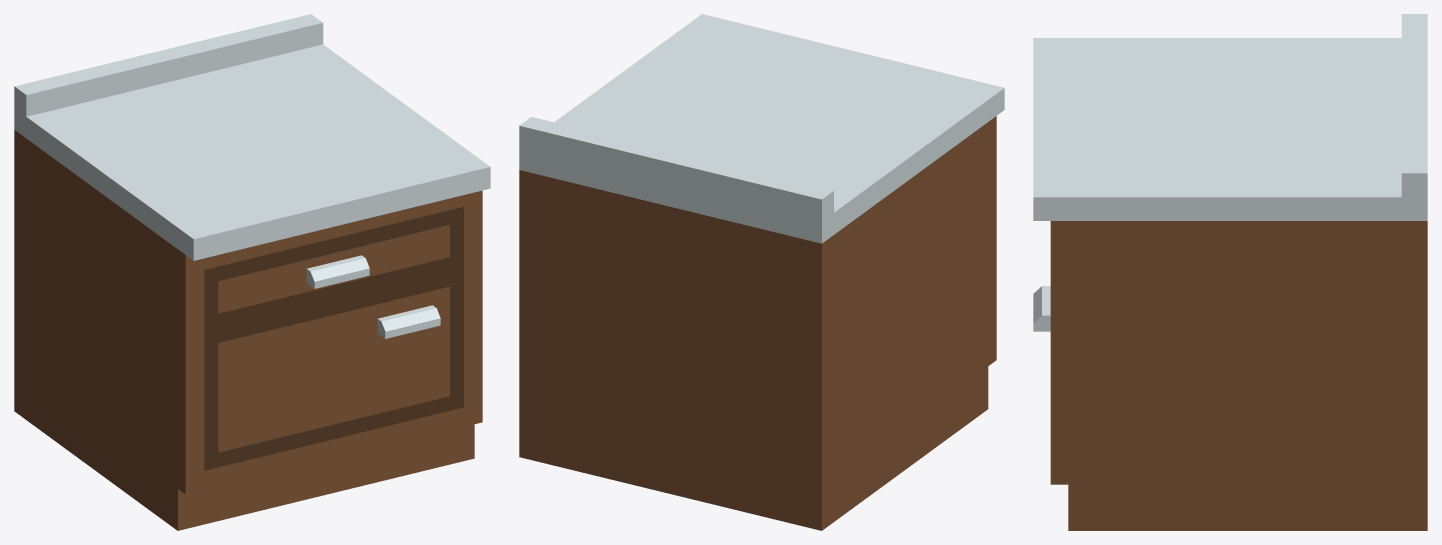
The model's file is m_counter_drawers.glb.
The picture shows the model from 3 angles, left to right: view 1: azimuth 30°, elevation 25°; view 2: azimuth 150°, elevation 25°; view 3: azimuth 270°, elevation 25°; orthographic projection. The views are drawn at different scales.
Parts seen in each view (by area): view 1: Mesh kitchenCabinetDrawer, door, drawer; view 2: Mesh kitchenCabinetDrawer; view 3: Mesh kitchenCabinetDrawer, door.
Part boxes in pixels (x1,y1,x2,y2): Mesh kitchenCabinetDrawer: (14,14,490,530); door: (204,268,463,470); drawer: (204,206,463,331); Mesh kitchenCabinetDrawer: (519,14,1004,530); Mesh kitchenCabinetDrawer: (1033,14,1427,530); door: (1033,286,1050,331).
Bounding box in the file's own units: 0.8791 × 0.92 × 0.92.
